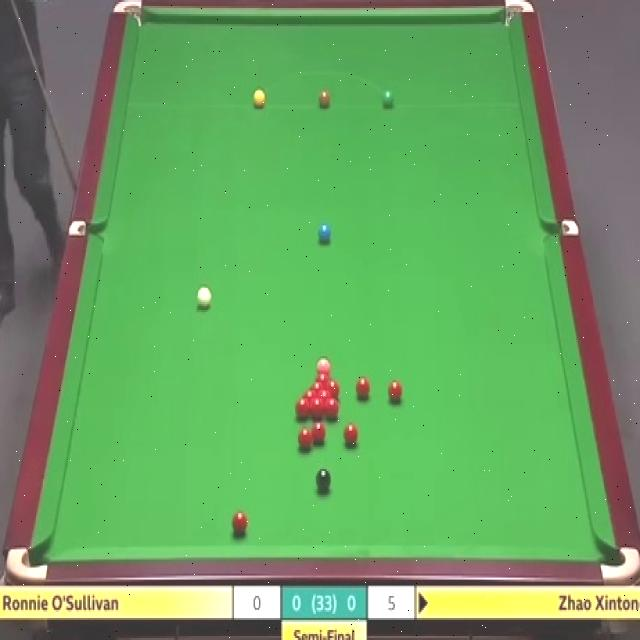black-ball: (316, 466, 332, 495)
blue-ball: (318, 222, 331, 246)
brown-ball: (318, 90, 332, 109)
green-ball: (381, 89, 395, 110)
pink-ball: (316, 356, 332, 372)
red-ball: (231, 509, 248, 538), (388, 379, 404, 405), (297, 427, 313, 450), (324, 397, 340, 420), (356, 374, 370, 400), (294, 398, 309, 420), (344, 424, 358, 447), (312, 422, 326, 444), (310, 397, 324, 418), (327, 380, 340, 399), (308, 380, 327, 390), (315, 372, 332, 382), (302, 389, 318, 399), (318, 389, 333, 398)
white-ball: (195, 283, 212, 313)
yellow-ball: (252, 88, 266, 109)
